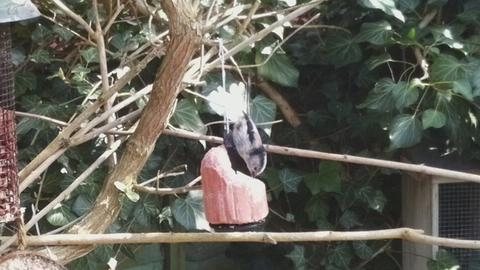long tailed tit: (233, 72, 268, 178)
